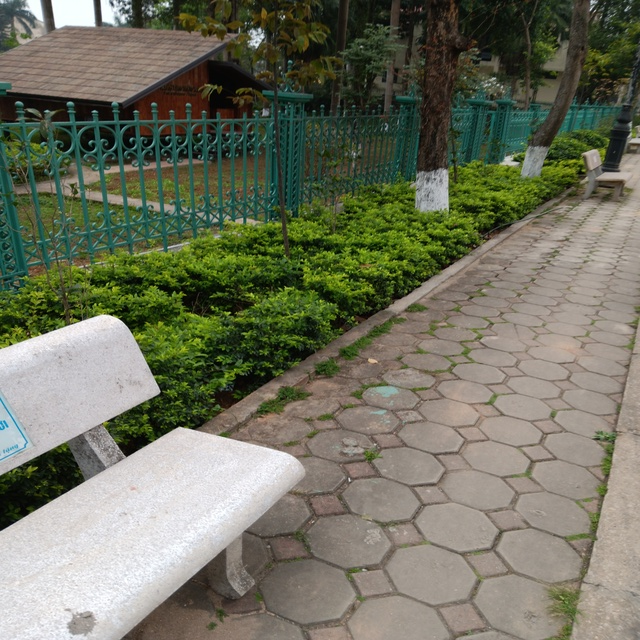gheda: (1, 313, 308, 640), (575, 145, 637, 205)
